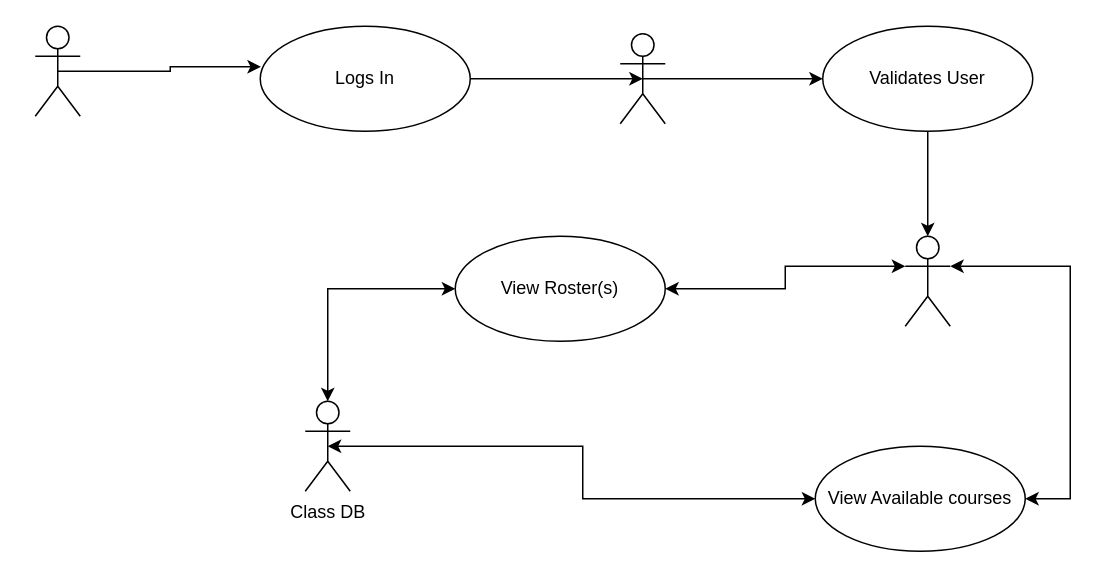
Image size: 1110x578. Some labels were removed from this diagram. The shapes that lost their labels are listed below. From the top down, each one's centre as x and y in pixels, then its label:
At [57,70]: "Teacher".
At [642,78]: "User DB".
At [927,280]: "CURSE (Main Menu)".
